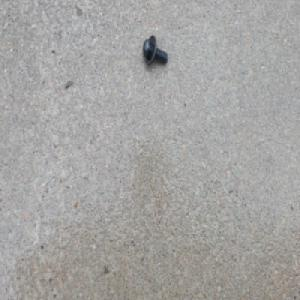BoltWasher: (142, 34, 168, 67)
